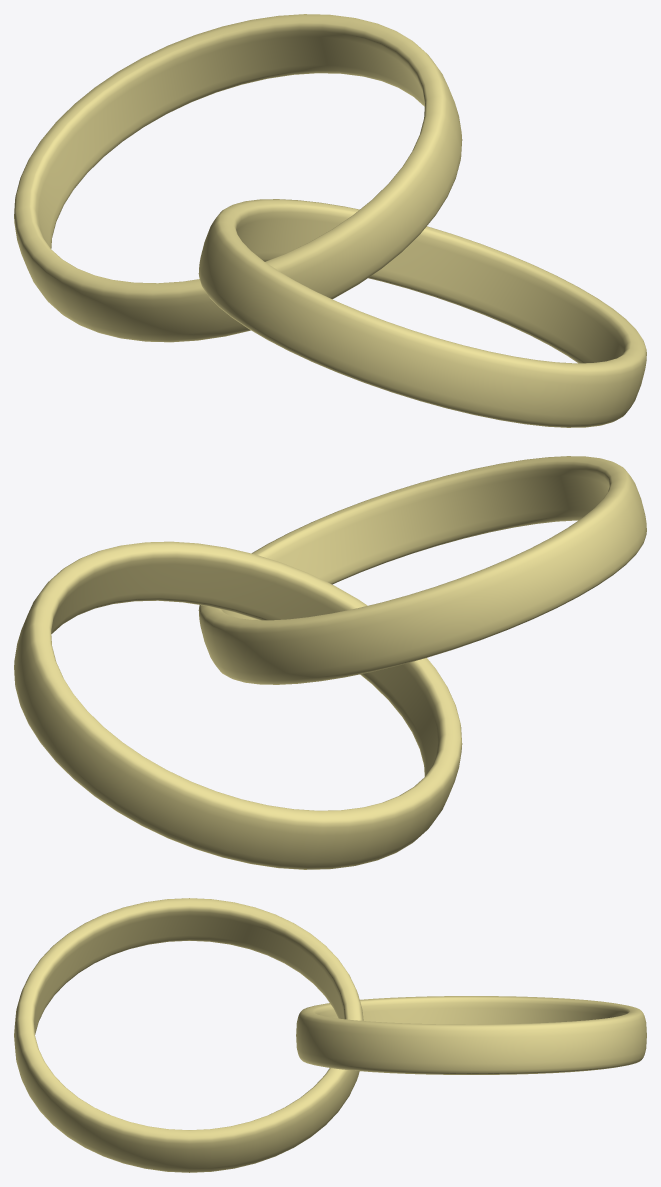
File: marriage.glb
The picture shows the model from 3 angles, top to bottom: view 1: azimuth 30°, elevation 25°; view 2: azimuth 150°, elevation 25°; view 3: azimuth 270°, elevation 25°; orthographic projection. The views are drawn at different scales.
Visible parts, largest first — view 1: Ring.001, Ring.002; view 2: Ring.001, Ring.002; view 3: Ring.002, Ring.001.
Part boxes in pixels (left/top/right/bottom): Ring.001: left=14, top=14, right=462, bottom=342; Ring.002: left=198, top=199, right=646, bottom=427; Ring.001: left=14, top=541, right=462, bottom=869; Ring.002: left=198, top=456, right=646, bottom=684; Ring.002: left=14, top=898, right=363, bottom=1172; Ring.001: left=296, top=996, right=646, bottom=1074.
Bounding box in the file's own units: 1.03 × 0.493 × 1.93.
